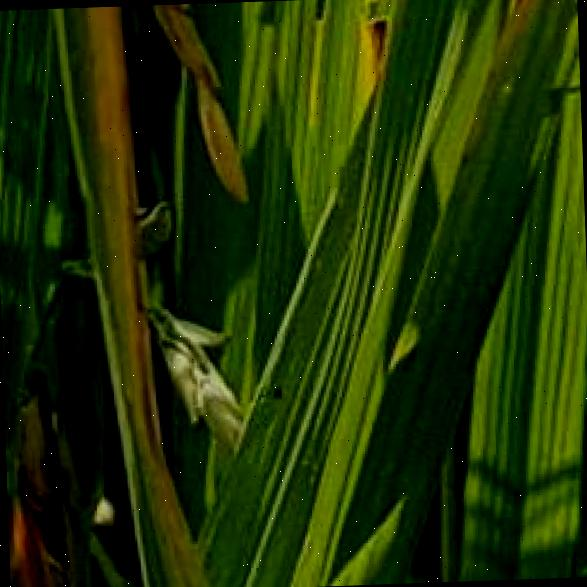Bacteria_Leaf_Blight: (74, 12, 203, 562)
